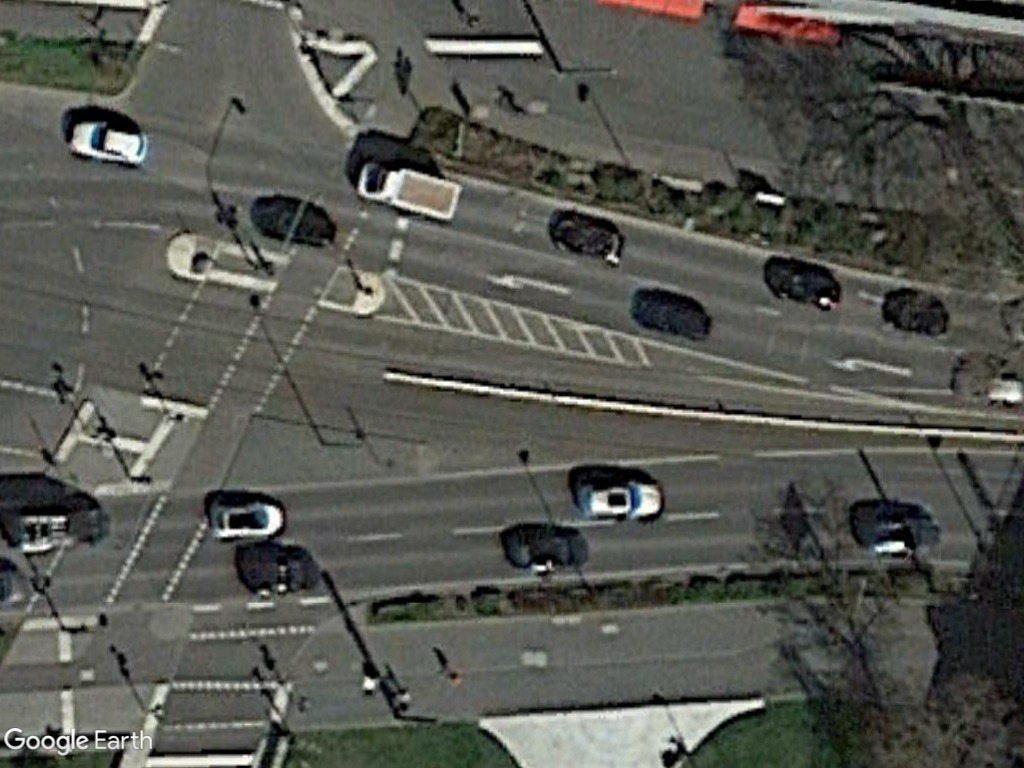car: (568, 477, 667, 525), (66, 116, 151, 170)
truck: (351, 155, 466, 224)
